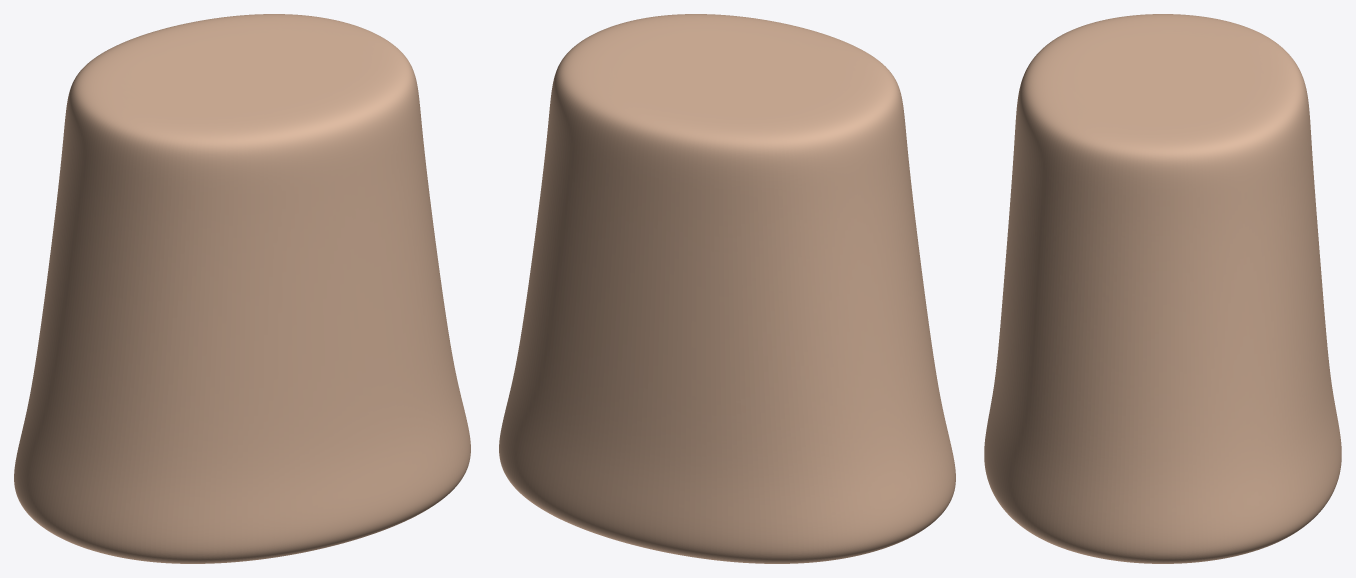
The model's file is CUERPO_SUP_M.glb.
3 views of the same model, side by side, from view 1: azimuth 30°, elevation 25°; view 2: azimuth 150°, elevation 25°; view 3: azimuth 270°, elevation 25° (orthographic). The views are drawn at different scales.
Parts seen in each view (by area): view 1: Cube.062; view 2: Cube.062; view 3: Cube.062.
Part boxes in pixels (<box>): Cube.062: <box>14,14,470,563</box>; Cube.062: <box>499,14,955,563</box>; Cube.062: <box>984,14,1341,563</box>.
Size of the model in its own units: 1.93 by 1.91 by 1.51.
